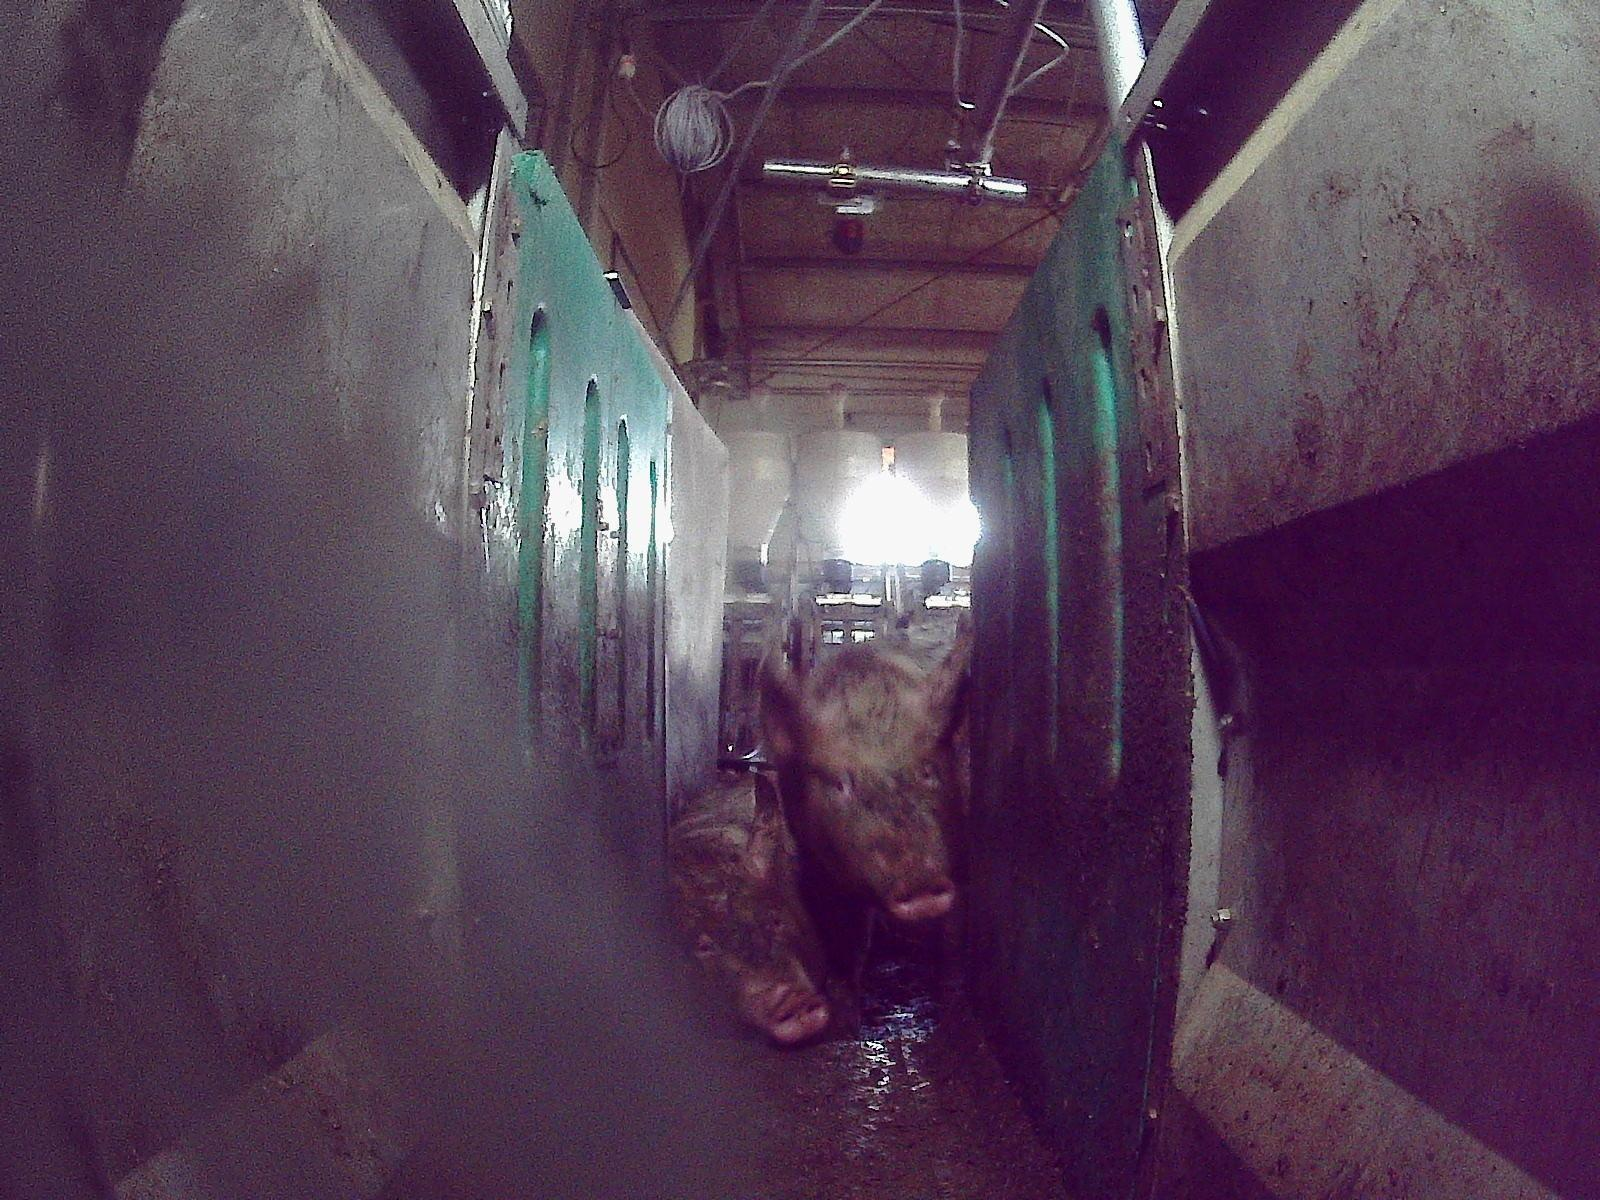Face: (796, 707, 959, 918)
